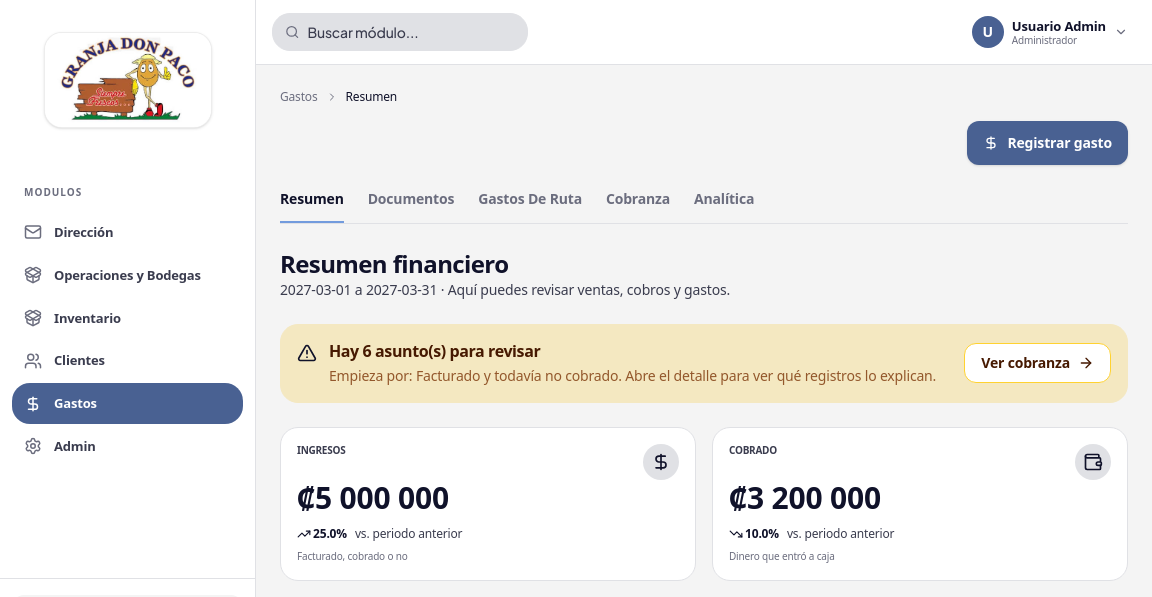
Test case: Resumen › avisa cuando el periodo cierra en pérdida
This screenshot has width=1152, height=597.
What coordinates should you click on to do the following:
click the button "Gastos" below "Modulos"
I would click on:
 (128, 404)
Its box is top-left (12, 383), bottom-right (243, 424).
(page scrolled)
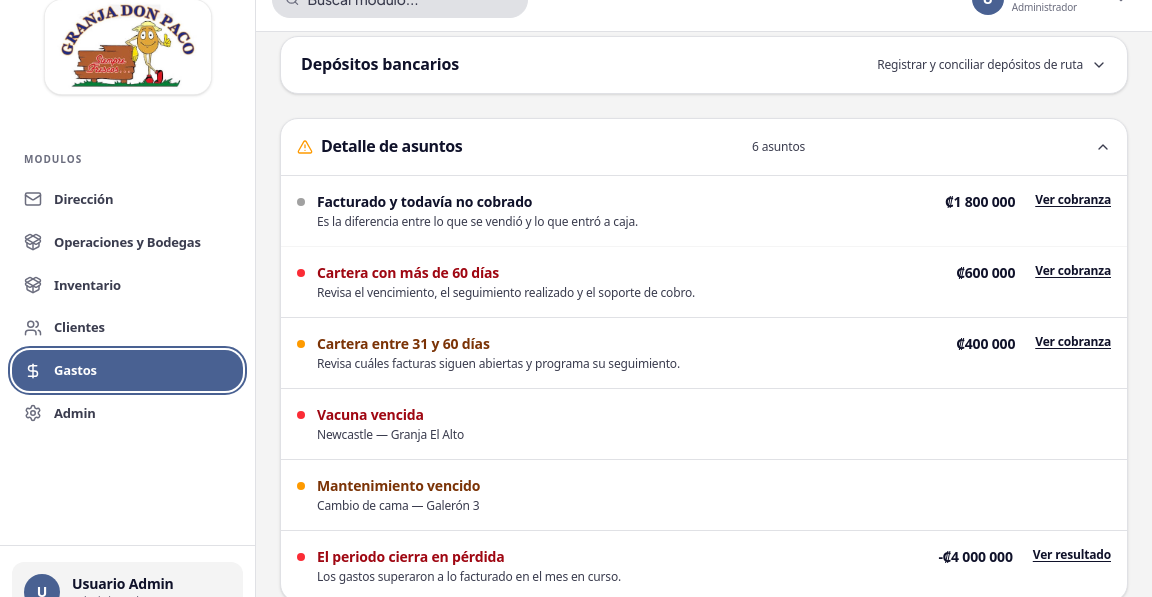
Check: the element with test id "finanzas-requiere-atencion" shows "cierra en pérdida", box top-left (317, 547), bottom-right (504, 566)
